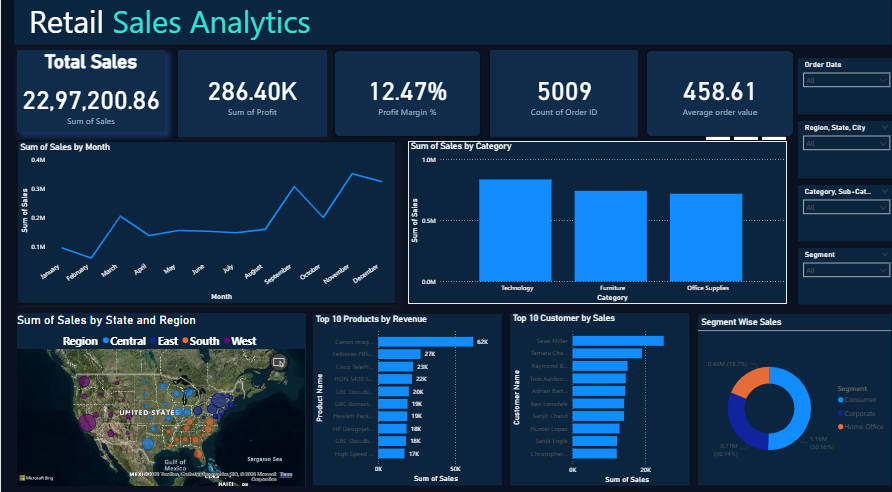

What the dashboard file says about the page in this screenshot:
{"tool":"powerbi","page":{"name":"Page 1","canvas":[1700,950],"ordinal":0},"visuals":[{"type":"card","title":"Total Sales","fields":{"Values":["Sum(Orders.Sales)"]},"box":[30.4,91.2,280.4,165],"z":0},{"type":"card","fields":{"Values":["Sum(Orders.Profit)"]},"box":[324.8,91.2,283.1,165.3],"z":1000},{"type":"card","fields":{"Values":["Count(Orders.Order ID)"]},"box":[915.1,91.2,281.2,165.3],"z":2000},{"type":"card","fields":{"Values":["Orders.Profit Margin %"]},"box":[621.9,91.2,279.3,165.3],"z":3000},{"type":"clusteredColumnChart","fields":{"Category":["Orders.Category"],"Y":["Sum(Orders.Sales)"]},"box":[782.8,273.6,708.7,309.7],"z":4000},{"type":"shape","box":[23.9,0,1667,90],"z":5000},{"type":"lineChart","fields":{"Category":["Orders.Order Date.Variation.Date Hierarchy.Month","Orders.Order Date.Variation.Date Hierarchy.Day"],"Y":["Sum(Orders.Sales)"]},"box":[30.4,273.9,709,308.7],"z":6000},{"type":"card","fields":{"Values":["Orders.Average order value"]},"box":[1210.3,91.2,281.2,161.5],"z":7000},{"type":"clusteredBarChart","title":"Top 10 Products by Revenue","fields":{"Category":["Orders.Product Name"],"Y":["Sum(Orders.Sales)"]},"box":[593.5,602.2,358.7,326.1],"z":8000},{"type":"clusteredBarChart","title":"Top 10 Customer by Sales","fields":{"Category":["Orders.Customer Name"],"Y":["Sum(Orders.Sales)"]},"box":[967.4,600,341.3,328.3],"z":9000},{"type":"donutChart","title":"Segment Wise Sales","fields":{"Category":["Orders.Segment"],"Y":["Sum(Orders.Sales)"]},"box":[1323.9,602.2,367.4,326.1],"z":10000},{"type":"slicer","fields":{"Values":["Orders.Region","Orders.State","Orders.City"]},"box":[1515.2,235.1,184.8,108.7],"z":11000},{"type":"slicer","fields":{"Values":["Orders.Segment"]},"box":[1515.2,476.1,184.8,106.5],"z":12000},{"type":"slicer","fields":{"Values":["Orders.Category","Orders.Sub-Category"]},"box":[1515.2,356.7,184.8,106.5],"z":13000},{"type":"slicer","fields":{"Values":["Orders.Order Date"]},"box":[1515,115.2,185,107],"z":14000},{"type":"map","fields":{"Category":["Orders.State"],"Series":["Orders.Region"],"Size":["Sum(Orders.Sales)"]},"box":[30.4,600,547.8,328.3],"z":15000},{"type":"textbox","box":[30.4,0,1573.9,91.3],"z":16000}]}

Visuals, with their boxes in screenshot pixels (x1, y1, x2, y2), scaled from the page's 1700x950 canvas onto the 892x492 screenshot:
"Total Sales" card: <bbox>16, 47, 163, 133</bbox>
card - Sum(Orders.Profit): <bbox>170, 47, 319, 133</bbox>
card - Count(Orders.Order ID): <bbox>480, 47, 628, 133</bbox>
card - Orders.Profit Margin %: <bbox>326, 47, 473, 133</bbox>
clusteredColumnChart - Orders.Category x Sum(Orders.Sales): <bbox>411, 142, 783, 302</bbox>
shape: <bbox>13, 0, 887, 47</bbox>
lineChart - Orders.Order Date.Variation.Date Hierarchy.Month x Orders.Order Date.Variation.Date Hierarchy.Day: <bbox>16, 142, 388, 302</bbox>
card - Orders.Average order value: <bbox>635, 47, 783, 131</bbox>
"Top 10 Products by Revenue" clusteredBarChart: <bbox>311, 312, 500, 481</bbox>
"Top 10 Customer by Sales" clusteredBarChart: <bbox>508, 311, 687, 481</bbox>
"Segment Wise Sales" donutChart: <bbox>695, 312, 887, 481</bbox>
slicer - Orders.Region x Orders.State: <bbox>795, 122, 891, 178</bbox>
slicer - Orders.Segment: <bbox>795, 247, 891, 302</bbox>
slicer - Orders.Category x Orders.Sub-Category: <bbox>795, 185, 891, 240</bbox>
slicer - Orders.Order Date: <bbox>795, 60, 891, 115</bbox>
map - Orders.State x Orders.Region: <bbox>16, 311, 303, 481</bbox>
textbox: <bbox>16, 0, 842, 47</bbox>
